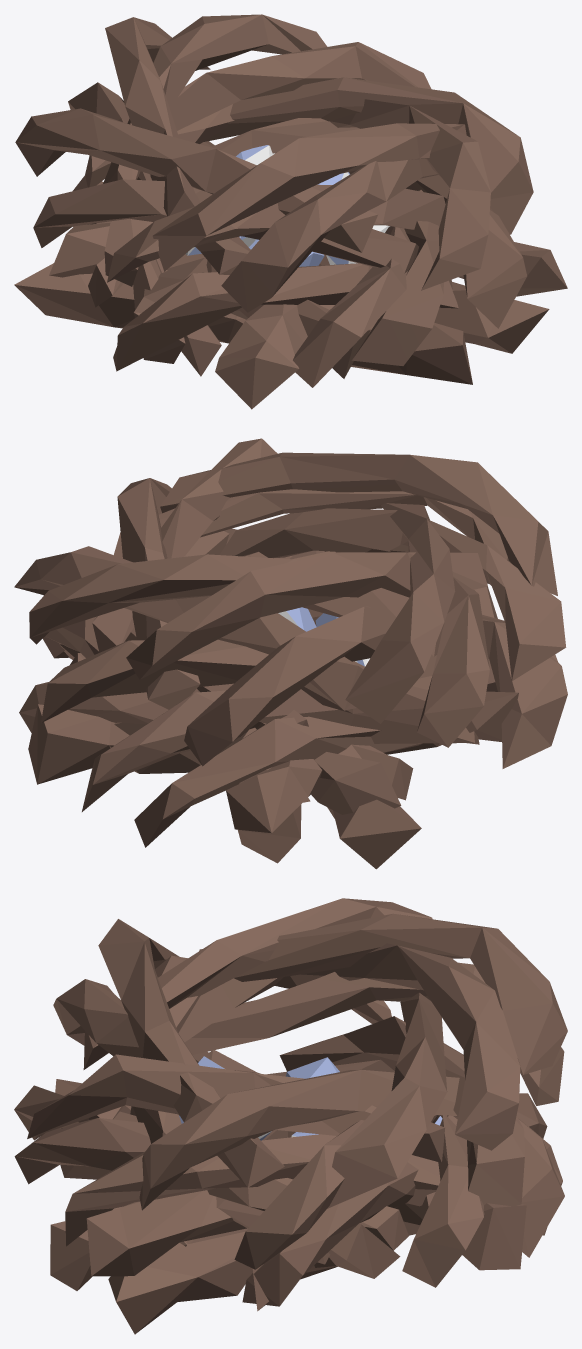
The model's file is Nest_02.fbx.
3 views of the same model, one above another, from view 1: azimuth 30°, elevation 25°; view 2: azimuth 150°, elevation 25°; view 3: azimuth 270°, elevation 25° (orthographic). The views are drawn at different scales.
Parts seen in each view (by area): view 1: Nest_02_LOD0; view 2: Nest_02_LOD0; view 3: Nest_02_LOD0.
Part boxes in pixels (left/top/right/bottom): Nest_02_LOD0: left=14, top=14, right=567, bottom=409; Nest_02_LOD0: left=14, top=438, right=567, bottom=869; Nest_02_LOD0: left=14, top=898, right=567, bottom=1334.
Size of what is drawn, in the model's own units: 31.85 by 18.32 by 31.41.
